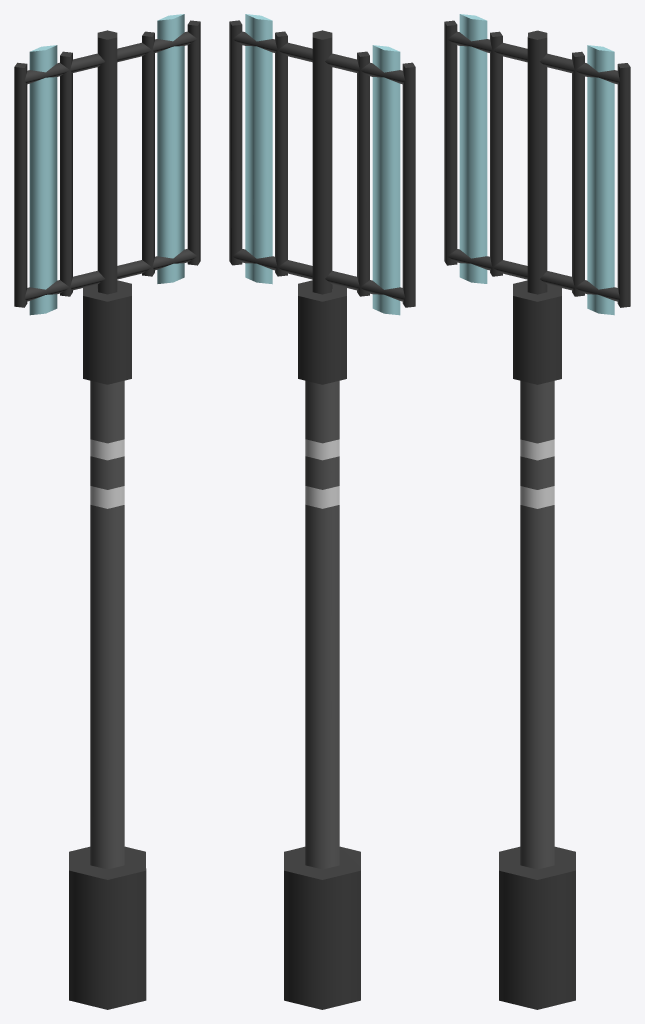
File: prop_005.fbx
The picture shows the model from 3 angles, left to right: view 1: azimuth 30°, elevation 25°; view 2: azimuth 150°, elevation 25°; view 3: azimuth 330°, elevation 25°; orthographic projection.
Visible parts, largest first — view 1: prop_005; view 2: prop_005; view 3: prop_005.
Boxes of the visible parts, left/top/right/bottom form: prop_005: left=14, top=14, right=200, bottom=1009; prop_005: left=229, top=14, right=415, bottom=1009; prop_005: left=444, top=14, right=630, bottom=1009.
Bounding box in the file's own units: 58.42 × 21 × 287.
